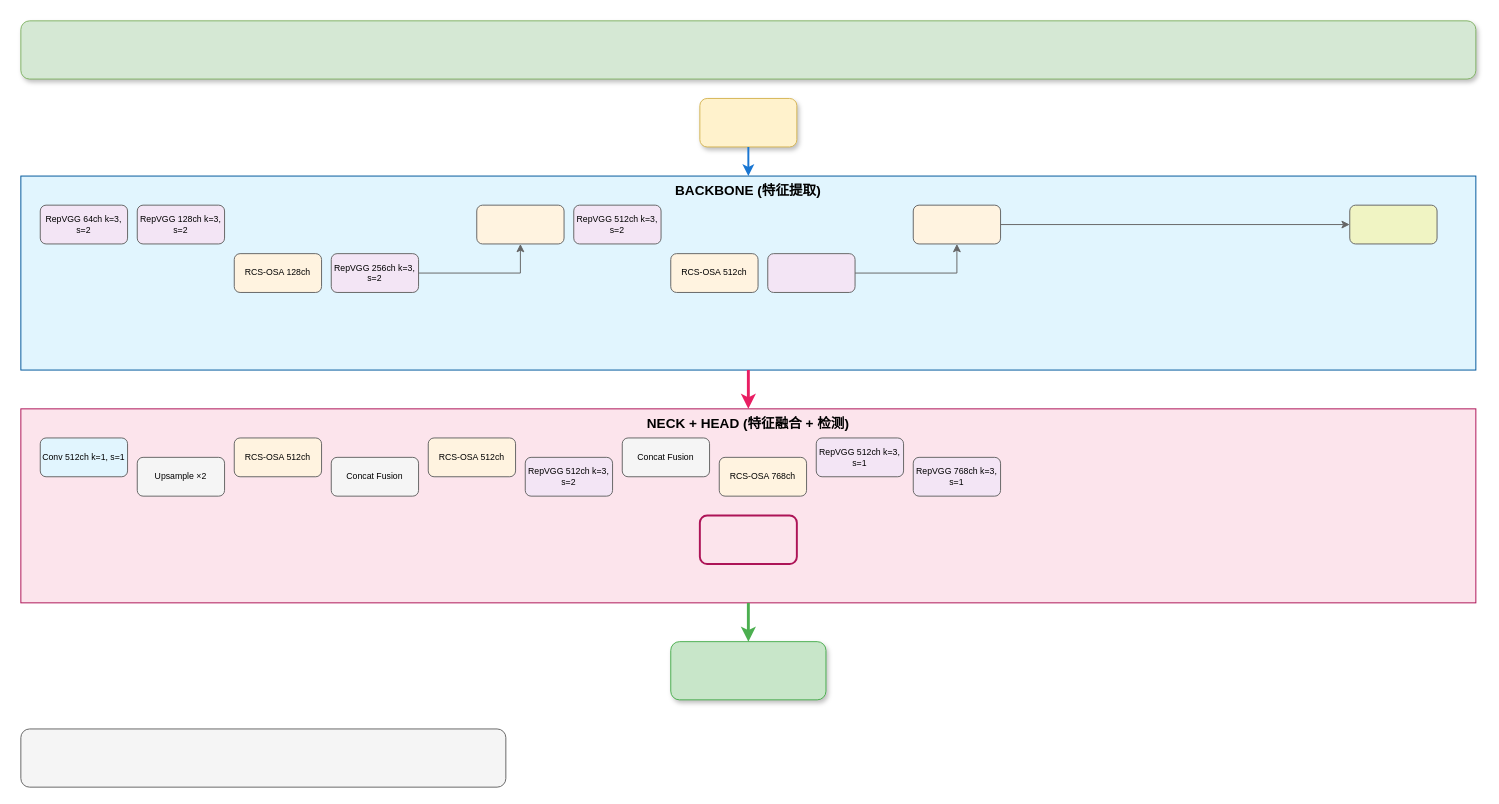
This 1499x804 diagram has some shape labels left out. The centre of each missing label's shape, as x and y in pixels:
"Detection Results Bounding Boxes + Confidence Scores" goes at pixel 749 672.
"IDetect Classes: nc" goes at pixel 747 539.
"Input Image 640×640×3" goes at pixel 749 124.
"RCS-OSA 1024ch" goes at pixel 956 224.
"RCS-OSA 256ch" goes at pixel 520 224.
"RepVGG 1024ch k=3, s=2" goes at pixel 811 272.
"SPPF 1024ch" goes at pixel 1393 224.
"YOLOv4-RepVGG-RCSOSA RepVGG卷积 + RCS-OSA模块 + IDetect检测头" goes at pixel 749 51.
"模块图例 ■ 标准卷积 ■ RepVGG ■ CSP ■ RCS-OSA ■ 注意力" goes at pixel 263 757.
